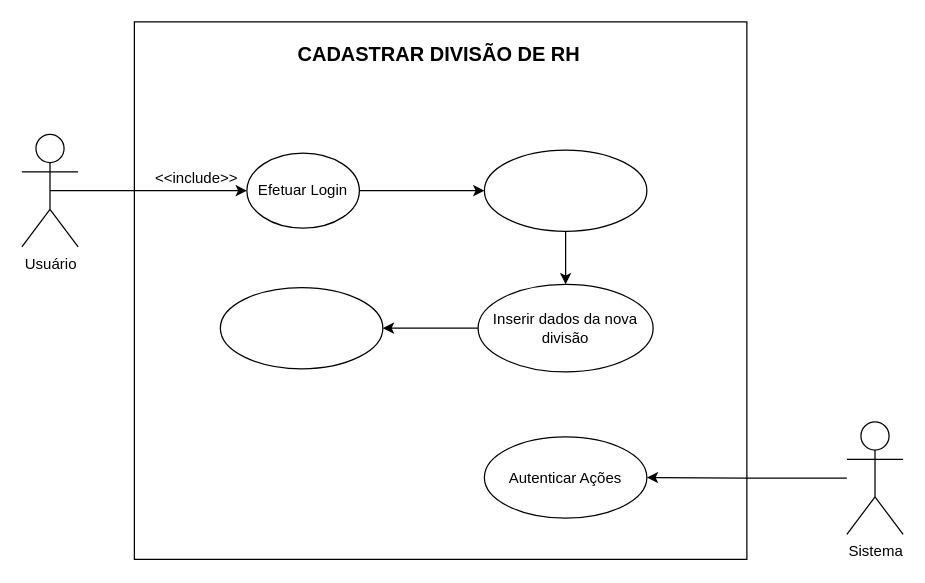
The diagram is 925 pixels wide and 583 high, and some of its shapes have lost their labels. The box of each missing label's shape, as (x1, y1, x2, y2) in pixels:
Acessar rotina de cadastro de divisões: (483, 149, 647, 231)
Salvar alterações: (219, 286, 383, 369)
